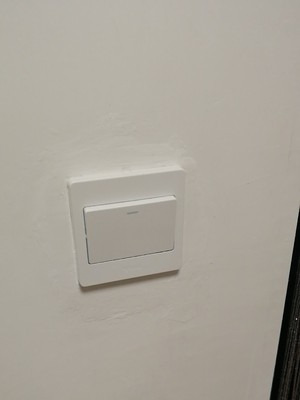switch: (77, 192, 180, 267)
